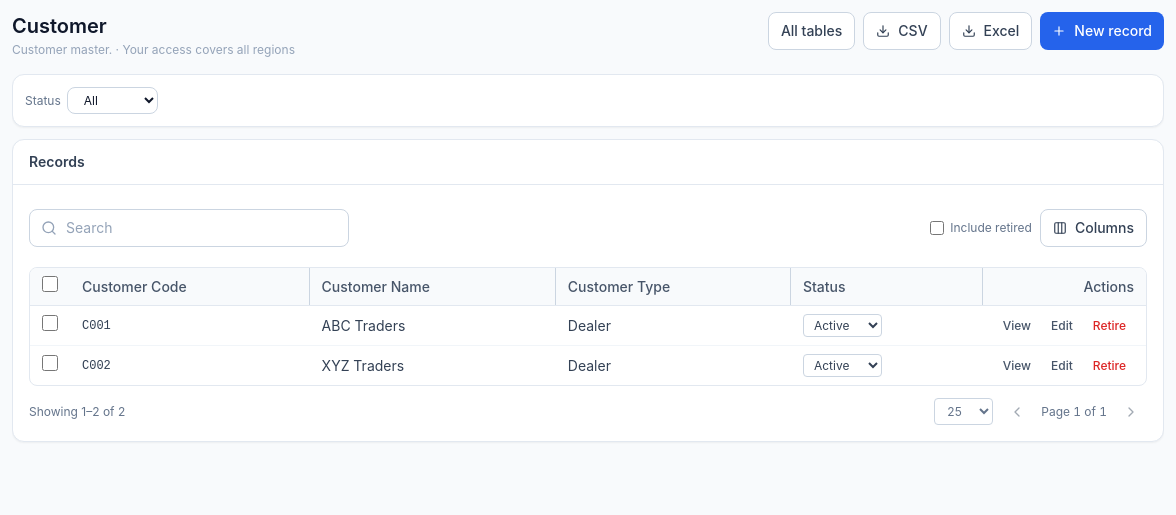
Test: MasterDataPage › says nothing after a bulk action that refused nothing
Expected: the text "ABC Traders" is shown, [310,306,556,346]
What coordinates should you click on to do the following:
click the checkbox named "Select row" next to "C001"
I would click on:
 (50, 323)
Its box is [42,315,58,331].
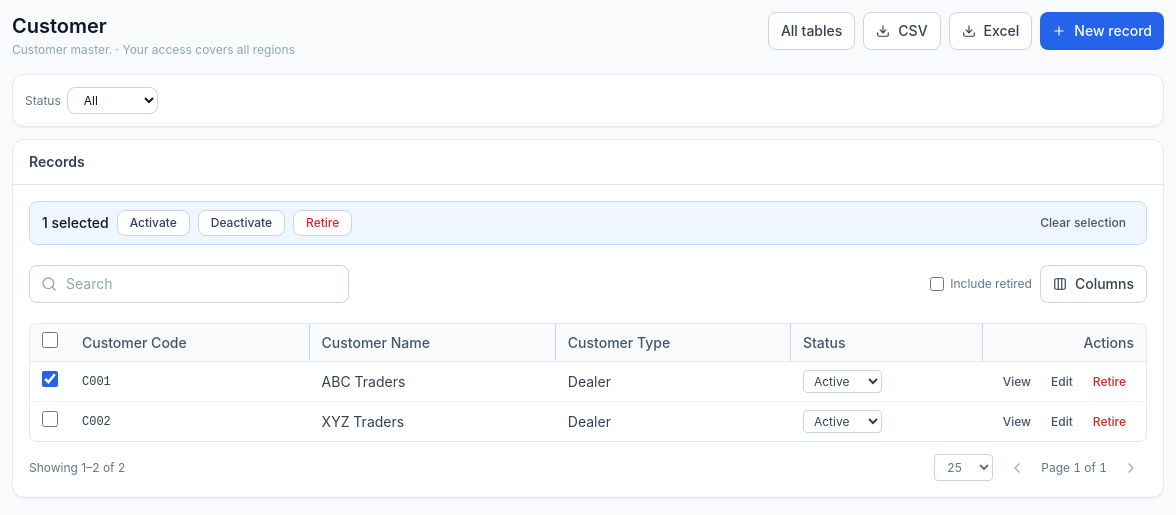
Note: Scoped to the bulk bar: the row menu offers a Retire of its own.
What coordinates should you click on to do the following:
click the button "Retire" in the row of "1 selected"
I would click on:
 (323, 223)
Its box is [293,210,352,236].
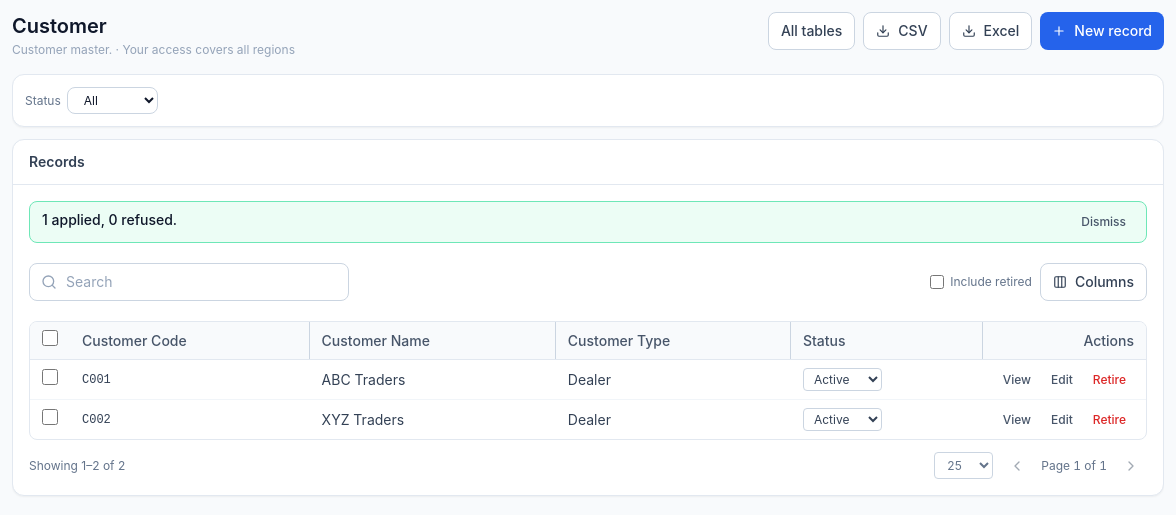
Expected: the message does not show "×", [29,201,1147,243]
Expected: the message shows "1 applied, 0 refused.", [42,211,177,228]
